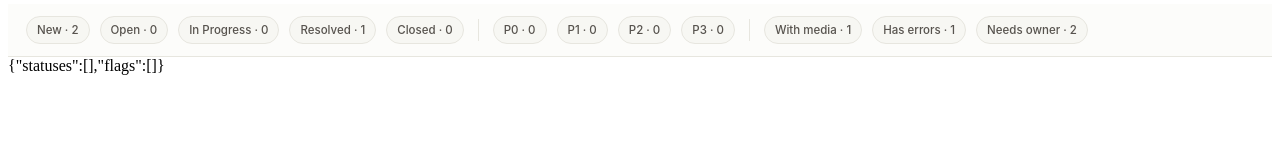
Test: SummaryBar › clicking a needs-attention chip toggles flag filter
Click the button "Has errors · 1" at {"x": 919, "y": 30}, box [872,16,966,44]
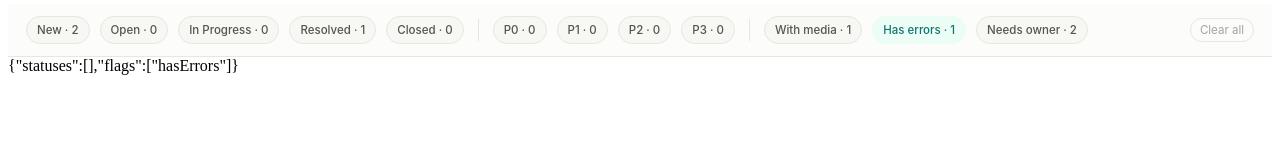
Expected: the text with test id "state" shows "\"flags\":[\"hasErrors\"]", [8,57,239,74]
